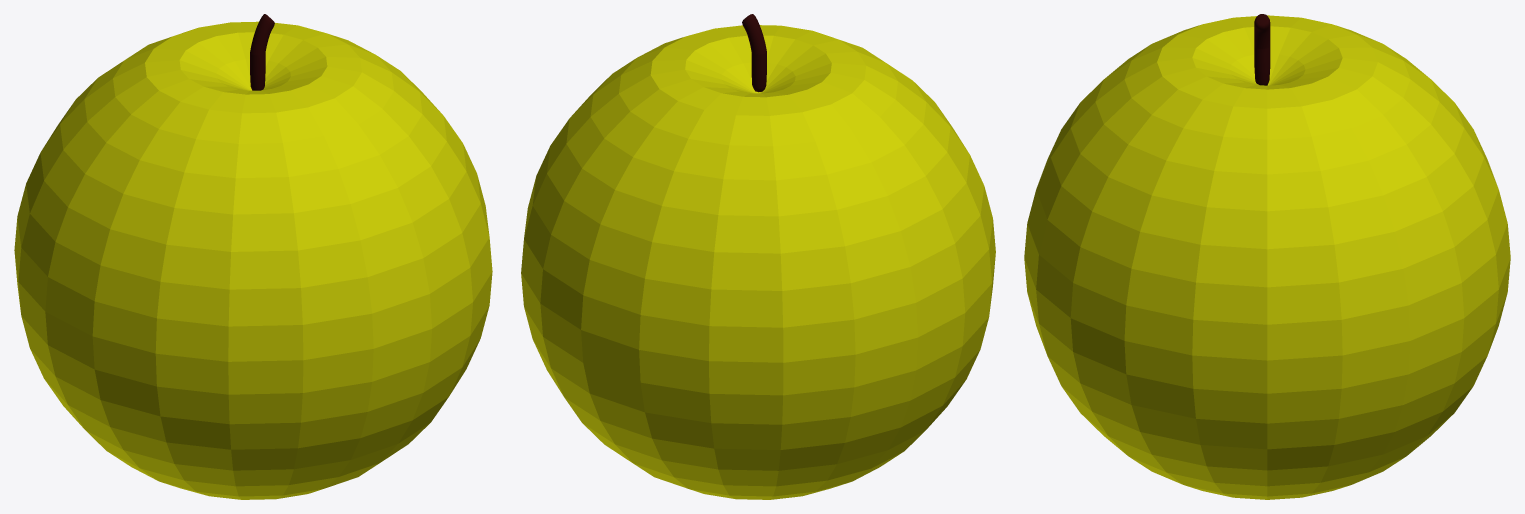
Rendered from sarı-elma.fbx.
3 views of the same model, side by side, from view 1: azimuth 30°, elevation 25°; view 2: azimuth 150°, elevation 25°; view 3: azimuth 270°, elevation 25° (orthographic).
Visible parts, largest first — view 1: pSphere1, pCylinder1; view 2: pSphere1, pCylinder1; view 3: pSphere1, pCylinder1.
Part boxes in pixels (box(x1,y1,x2,y2)): pSphere1: box(14, 21, 492, 499); pCylinder1: box(250, 14, 274, 90); pSphere1: box(521, 25, 995, 499); pCylinder1: box(742, 14, 766, 92); pSphere1: box(1024, 15, 1510, 499); pCylinder1: box(1254, 14, 1270, 85).
Size of the model in its own units: 8.81 by 9.05 by 8.81.
